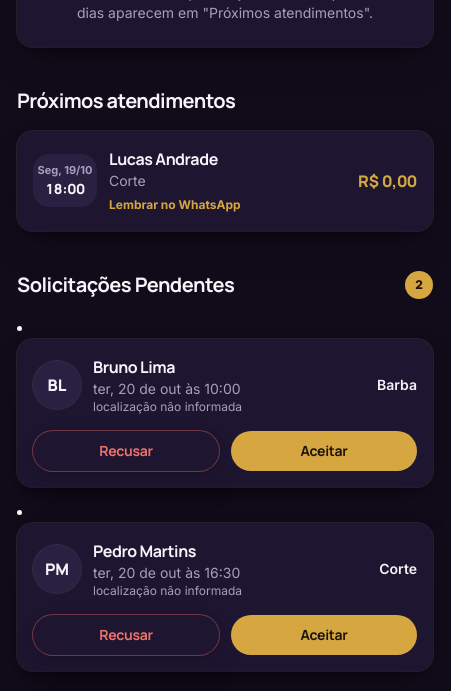
Test case: DashboardView › shows the API message when a request was already answered elsewhere
(page scrolled)
Click the button "Aceitar" below "ter, 20 de out às 10:00".
click(324, 451)  # box [231,431,417,471]
(page scrolled)
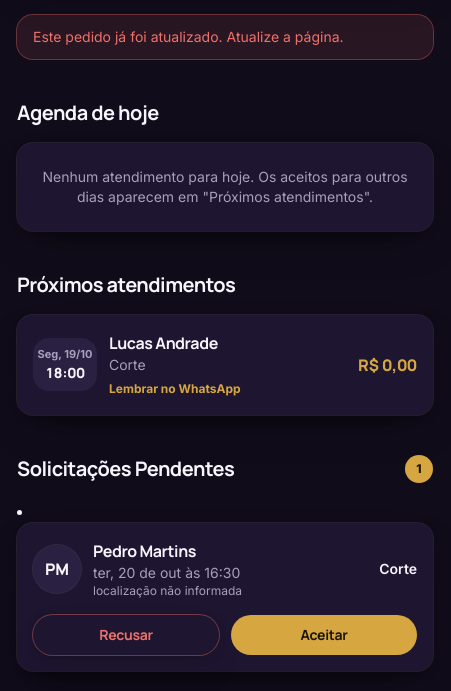
Result: the text "Este pedido já foi atualizado. Atualize a página." is shown at [17,15,433,59]
Result: the heading "Bruno Lima" is gone
